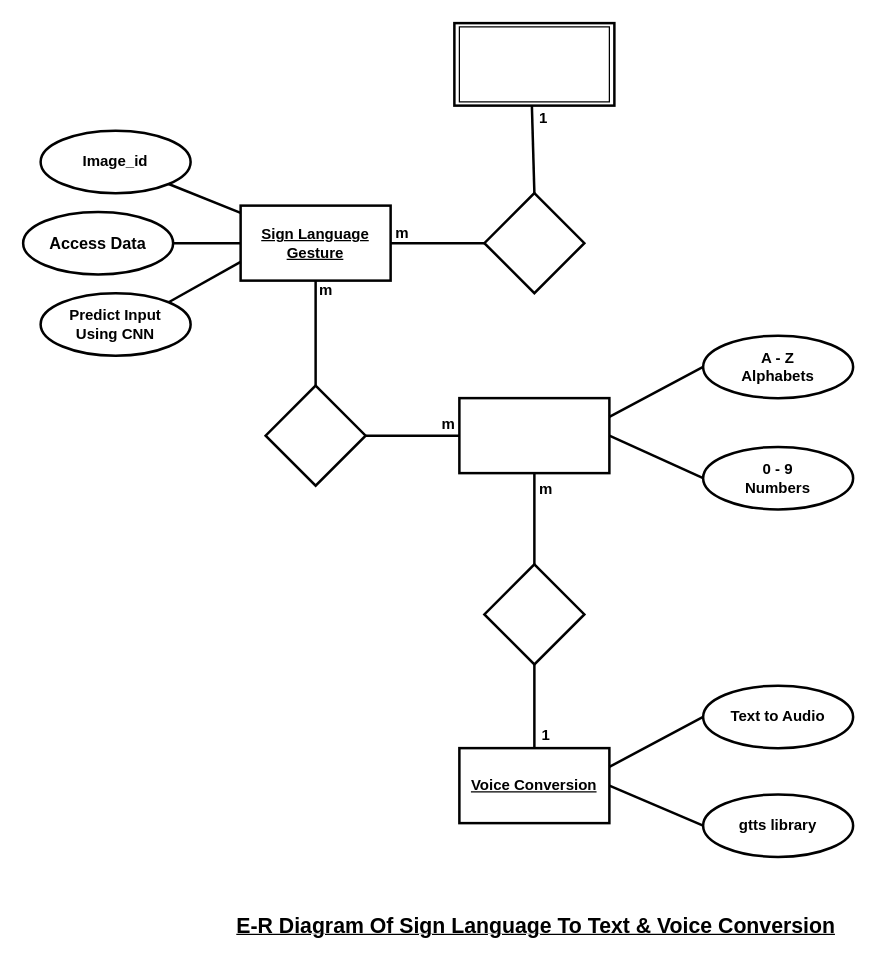
This 875x968 diagram has some shape labels left out. Here are the shapes that lost their labels. From the top down, the centre of each, then its label:
At pixel 533 64: "User".
At pixel 533 242: "Perform".
At pixel 315 435: "Maps To".
At pixel 534 435: "Text Translation".
At pixel 533 613: "Converted To".
